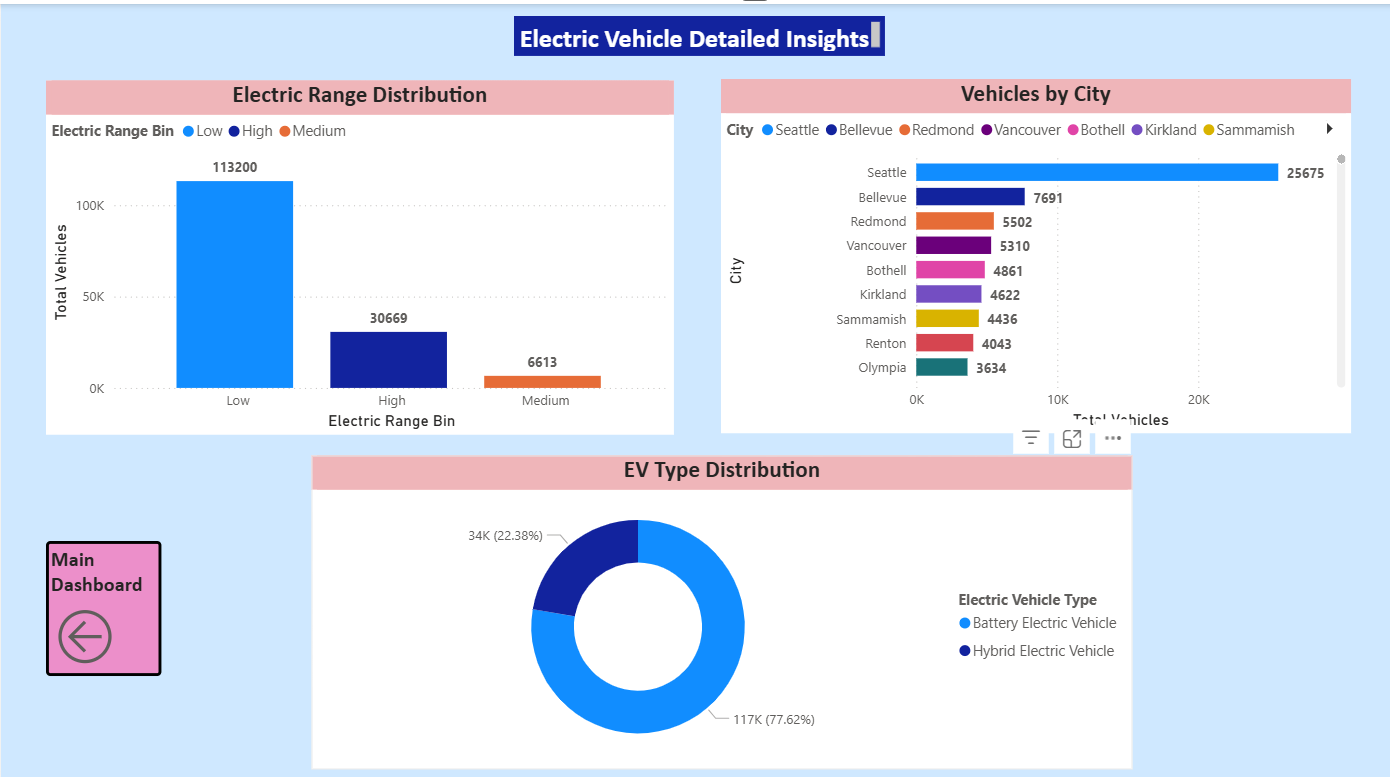

The dashboard page shown, as its layout file describes it:
{"tool":"powerbi","page":{"name":"Detailed Analysis","canvas":[1280,720],"ordinal":1},"visuals":[{"type":"columnChart","title":"Electric Range Distribution","fields":{"Category":["Electric_vehicle_dataset.Electric Range Bin"],"Y":["KPI Measures (DAX).Total Vehicles"],"Series":["Electric_vehicle_dataset.Electric Range Bin"]},"box":[41.7,70,576.7,325],"z":0},{"type":"barChart","title":"Vehicles by City","fields":{"Y":["KPI Measures (DAX).Total Vehicles"],"Category":["Electric_vehicle_dataset.City"],"Series":["Electric_vehicle_dataset.City"]},"box":[661.7,68.3,578.3,325],"z":1000},{"type":"donutChart","title":"EV Type Distribution","fields":{"Y":["KPI Measures (DAX).Total Vehicles"],"Category":["Electric_vehicle_dataset.Electric Vehicle Type"]},"box":[284.7,414.9,754.1,287.7],"z":2000},{"type":"actionButton","title":"Main Dashboard","box":[41.3,493.2,106.1,124],"z":3000},{"type":"textbox","box":[470.9,10.6,340.7,36.3],"z":4000}]}

Visuals, with their boxes in screenshot pixels (x1, y1, x2, y2), scaled from the page's 1280x720 canvas onto the 1390x777 screenshot:
"Electric Range Distribution" columnChart: bbox=[45, 76, 672, 426]
"Vehicles by City" barChart: bbox=[719, 74, 1347, 424]
"EV Type Distribution" donutChart: bbox=[309, 448, 1128, 758]
"Main Dashboard" actionButton: bbox=[45, 532, 160, 666]
textbox: bbox=[511, 11, 881, 51]
